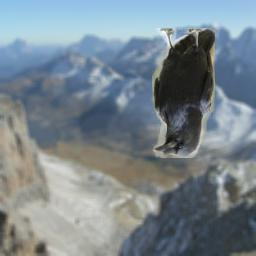Crow: (152, 28, 215, 158)
